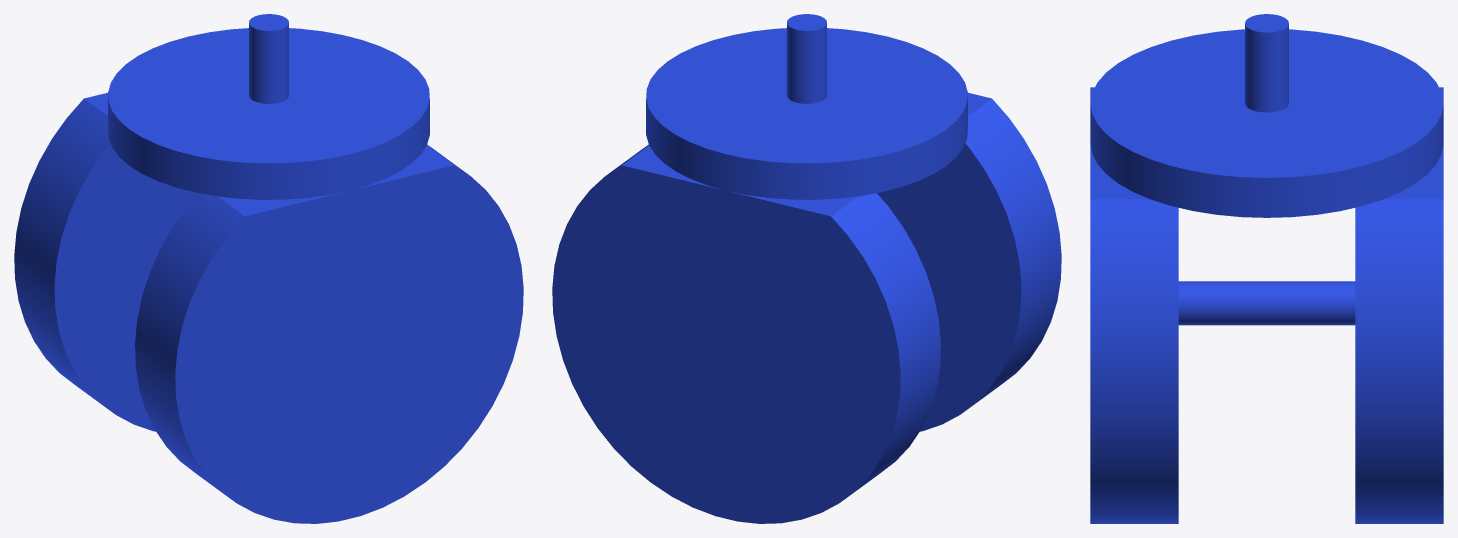
3 views of the same model, side by side, from view 1: azimuth 30°, elevation 25°; view 2: azimuth 150°, elevation 25°; view 3: azimuth 270°, elevation 25° (orthographic). The views are drawn at different scales.
Visible parts, largest first — view 1: color; view 2: color; view 3: color.
Boxes of the visible parts, left/top/right/bottom form: color: left=14, top=14, right=523, bottom=523; color: left=552, top=14, right=1061, bottom=523; color: left=1090, top=14, right=1443, bottom=523.
Size of the model in its own units: 12.69 by 15.23 by 10.16.
